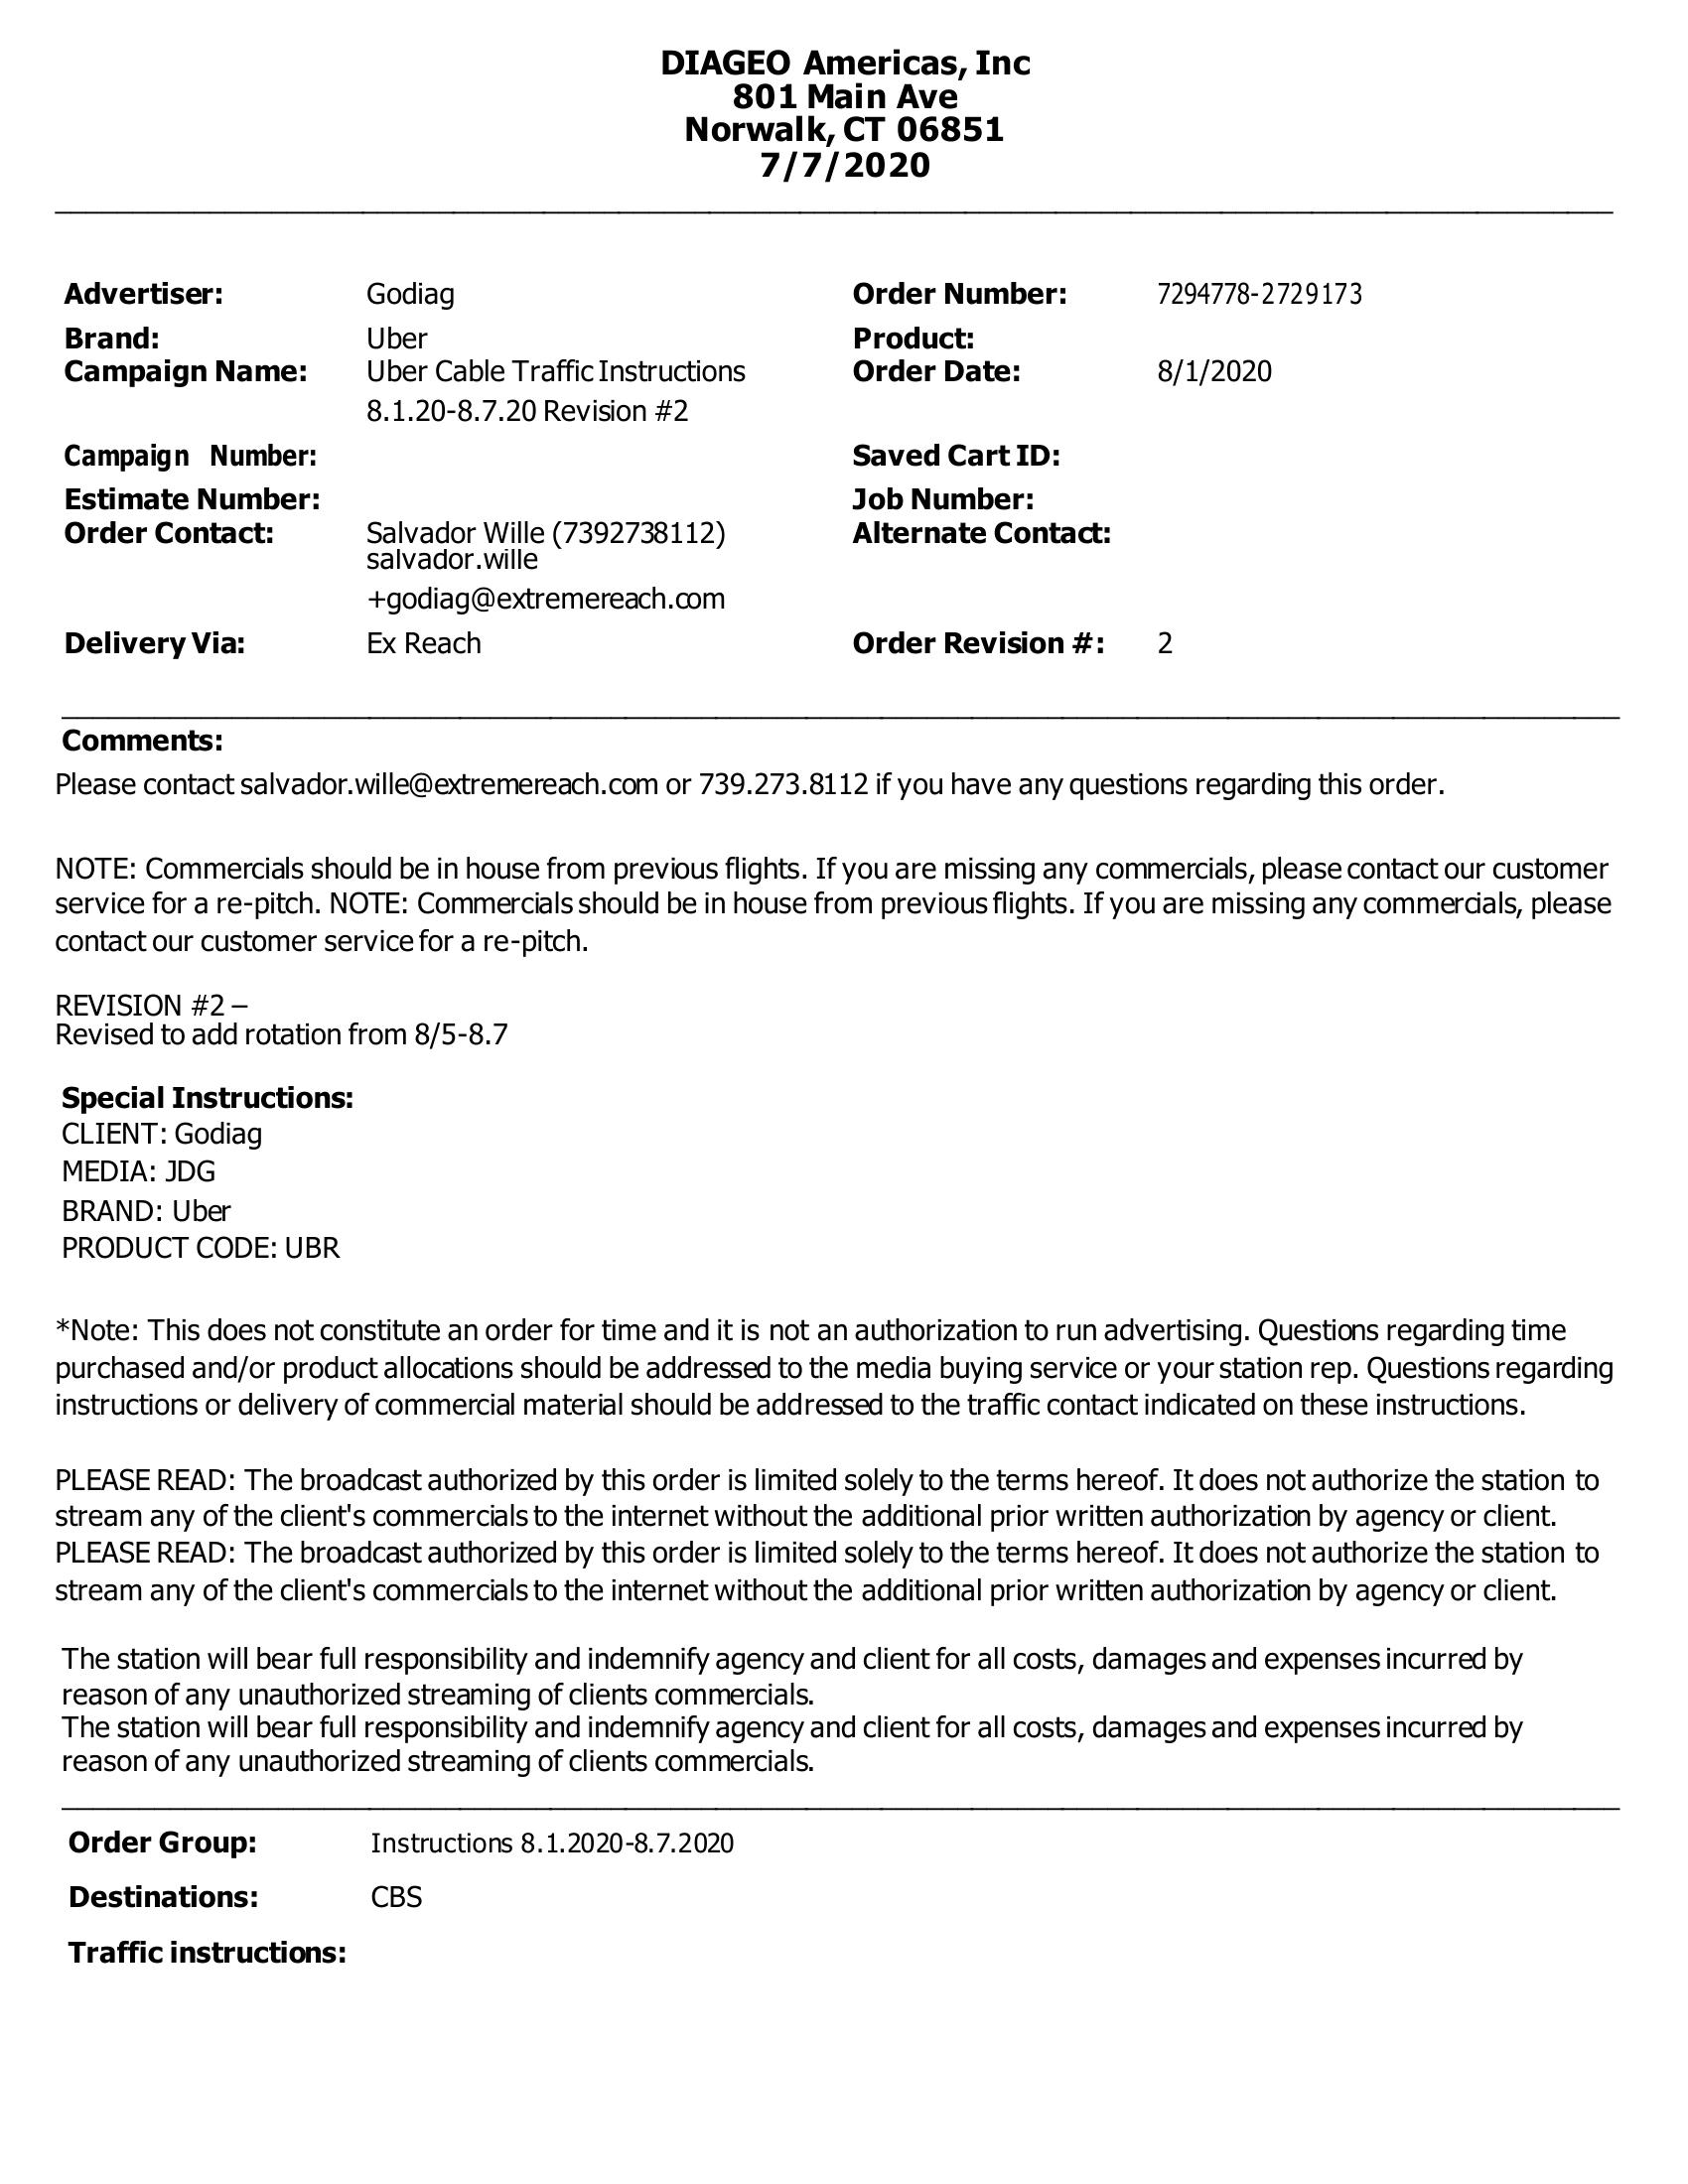table: (44, 259, 1399, 698), (57, 1817, 764, 1984)
